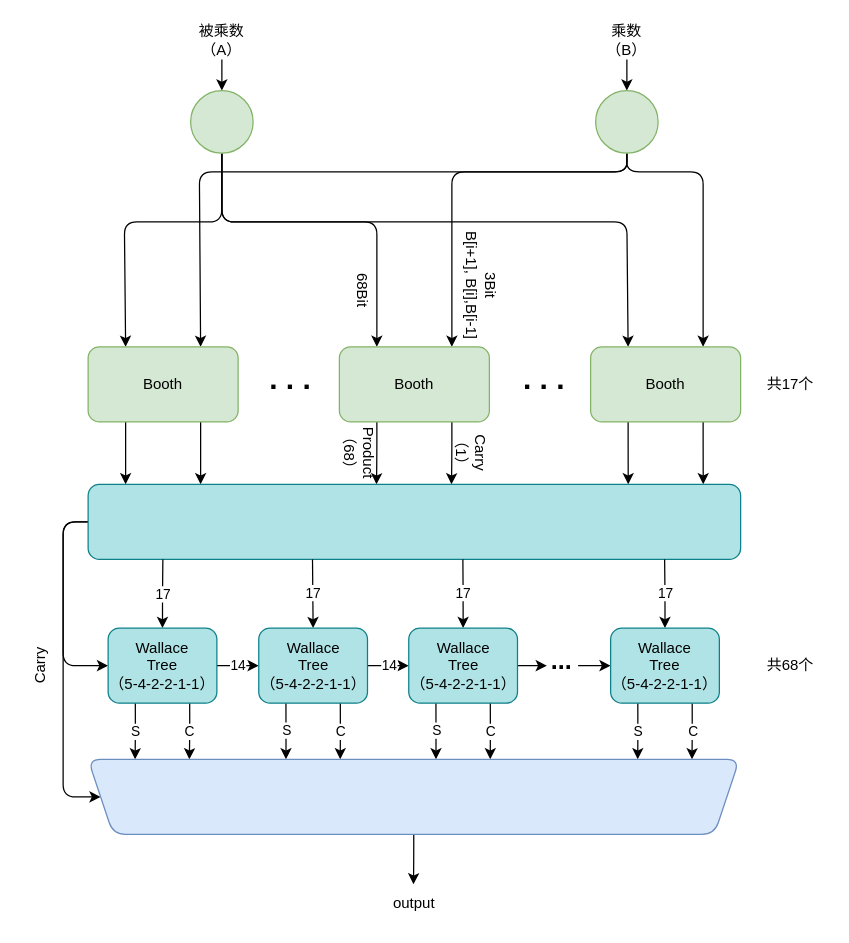
The diagram is 849 pixels wide and 943 high, and some of its shapes have lost their labels. Here are the shapes that lost their labels. From the top down, the box of each, then its label:
(189, 89, 253, 153): ext 68
(594, 89, 658, 153): ext 34
(87, 483, 741, 559): Transpose（17*68 → 68*17）
(87, 758, 739, 834): 68位加法器
